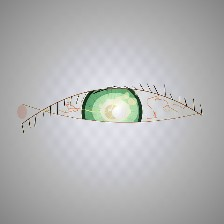corneal_ulcer: (91, 92, 139, 130)
